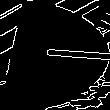L_W: (6, 37, 104, 73)
